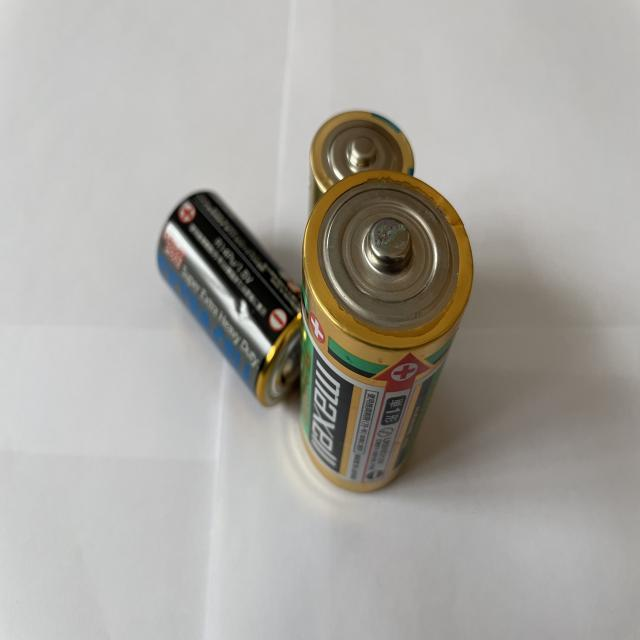hazardous waste: (294, 167, 474, 497), (156, 190, 304, 406), (307, 110, 414, 218)
